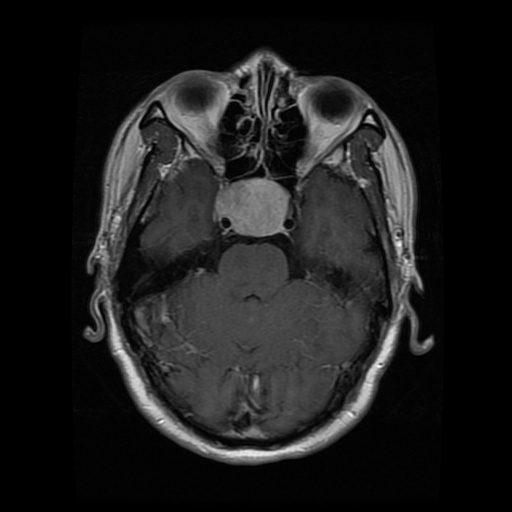pituitary: (216, 176, 289, 237)
